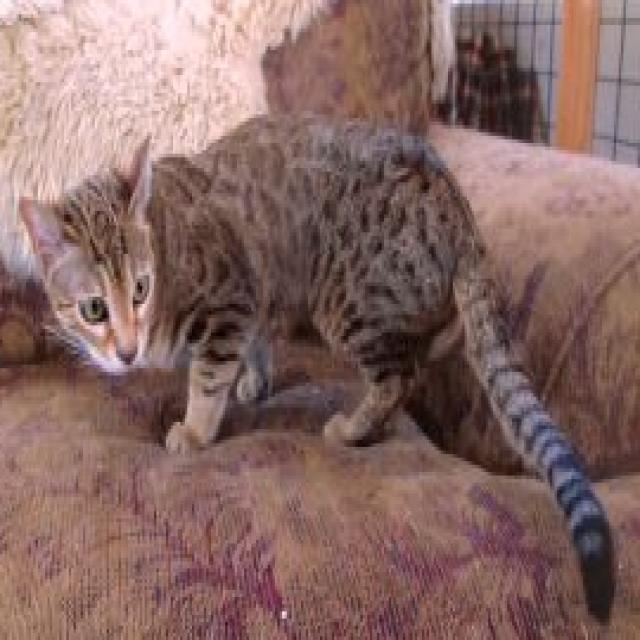Bengal: (15, 102, 622, 626)
